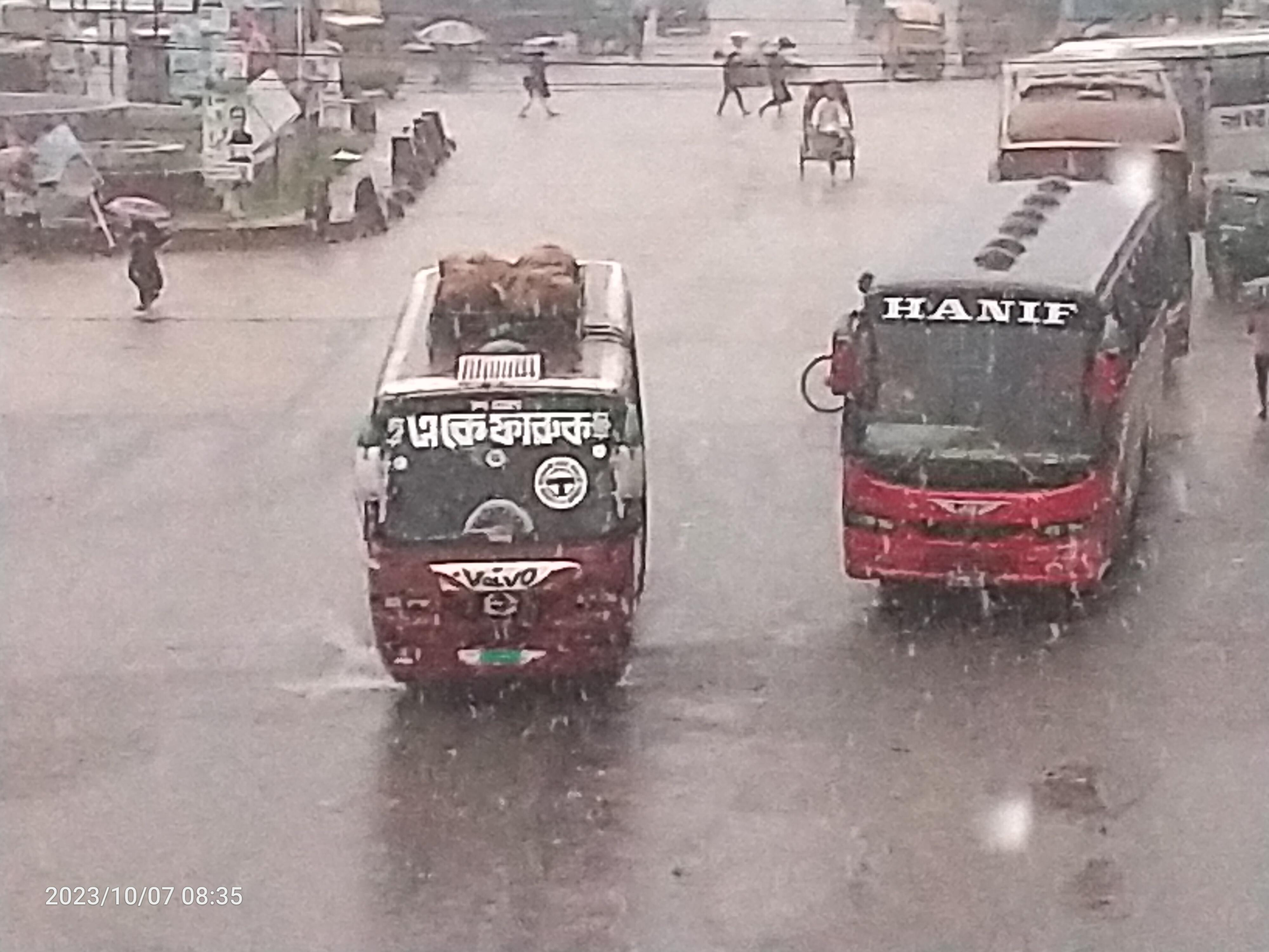Bus: (799, 162, 1204, 638), (328, 235, 708, 708), (991, 21, 1269, 190)
Car: (766, 74, 887, 193)
